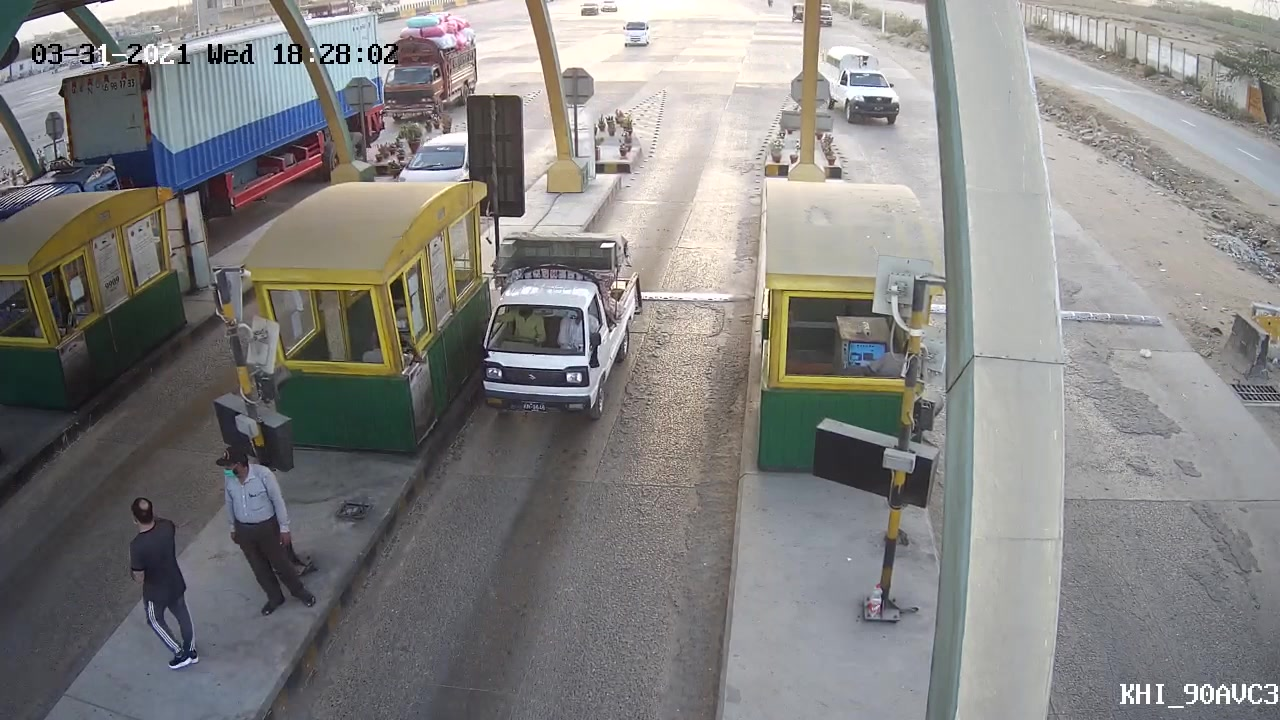F2: (465, 228, 645, 418)
